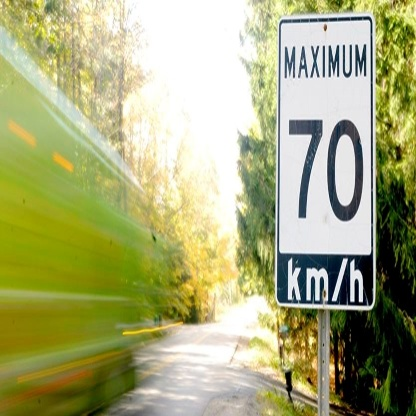limit1: (274, 17, 378, 311)
